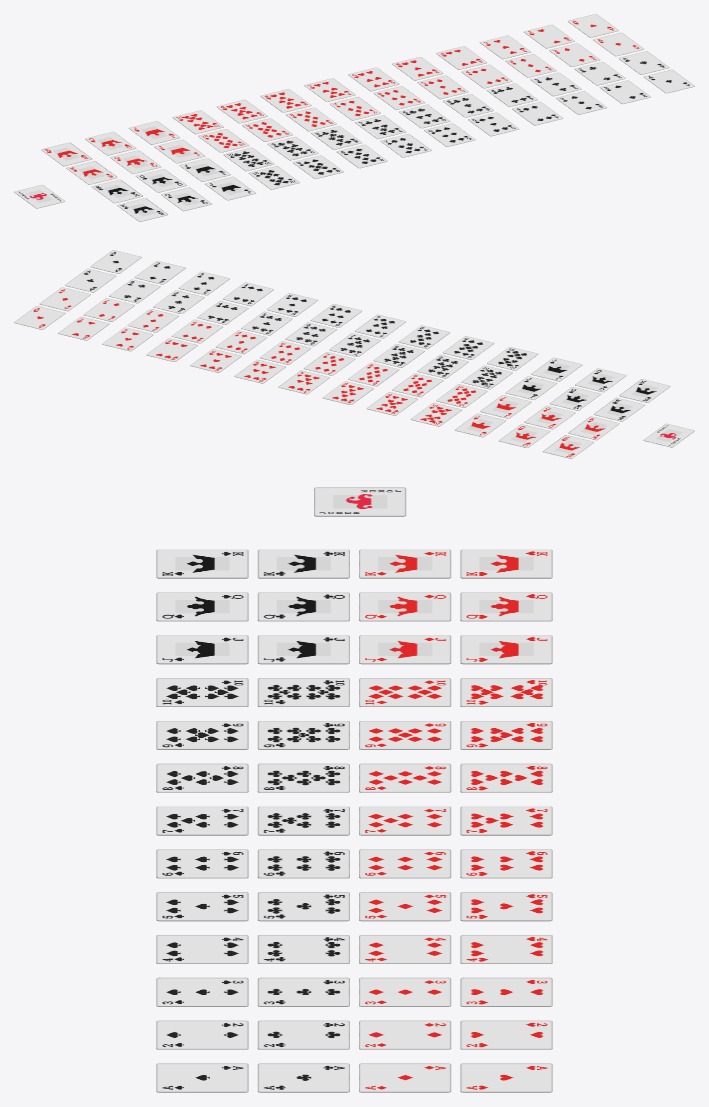
The model's file is BlueDeck.fbx.
3 renders of one model, top to bottom at view 1: azimuth 30°, elevation 25°; view 2: azimuth 150°, elevation 25°; view 3: azimuth 270°, elevation 25°, orthographic. The views are drawn at different scales.
Parts seen in each view (by area): view 1: ThreeDiamondsBlue, QueenHeartsBlue, SixHeartsBlue, JackClubsBlue, EightSpadesBlue, FiveSpadesBlue, TwoSpadesBlue, AceSpadesBlue, KingHeartsBlue, EightDiamondsBlue, SixDiamondsBlue, FiveDiamondsBlue (+41 smaller); view 2: QueenDiamondsBlue, EightDiamondsBlue, SevenHeartsBlue, SixHeartsBlue, FiveHeartsBlue, QueenClubsBlue, TenClubsBlue, QueenSpadesBlue, JackSpadesBlue, KingSpadesBlue, JackDiamondsBlue, TenDiamondsBlue (+41 smaller); view 3: SevenDiamondsBlue, TwoDiamondsBlue, AceDiamondsBlue, QueenHeartsBlue, SevenHeartsBlue, SixHeartsBlue, AceHeartsBlue, SevenClubsBlue, TwoClubsBlue, AceClubsBlue, QueenSpadesBlue, SevenSpadesBlue (+41 smaller).
Part boxes in pixels (x1=…): ThreeDiamondsBlue: x1=505, y1=54, x2=556, y2=77; QueenHeartsBlue: x1=85, y1=131, x2=136, y2=155; SixHeartsBlue: x1=348, y1=67, x2=399, y2=91; JackClubsBlue: x1=179, y1=158, x2=230, y2=181; EightSpadesBlue: x1=336, y1=144, x2=387, y2=168; FiveSpadesBlue: x1=468, y1=112, x2=519, y2=136; TwoSpadesBlue: x1=599, y1=80, x2=650, y2=104; AceSpadesBlue: x1=643, y1=69, x2=694, y2=93; KingHeartsBlue: x1=41, y1=142, x2=92, y2=166; EightDiamondsBlue: x1=285, y1=107, x2=336, y2=131; SixDiamondsBlue: x1=373, y1=86, x2=424, y2=109; FiveDiamondsBlue: x1=417, y1=75, x2=468, y2=99; QueenDiamondsBlue: x1=524, y1=405, x2=575, y2=429; EightDiamondsBlue: x1=348, y1=362, x2=399, y2=386; SevenHeartsBlue: x1=278, y1=370, x2=329, y2=394; SixHeartsBlue: x1=234, y1=359, x2=285, y2=383; FiveHeartsBlue: x1=190, y1=349, x2=241, y2=372; QueenClubsBlue: x1=549, y1=387, x2=601, y2=410; TenClubsBlue: x1=461, y1=365, x2=512, y2=389; QueenSpadesBlue: x1=575, y1=368, x2=626, y2=392; JackSpadesBlue: x1=531, y1=357, x2=582, y2=381; KingSpadesBlue: x1=619, y1=379, x2=670, y2=402; JackDiamondsBlue: x1=480, y1=395, x2=531, y2=418; TenDiamondsBlue: x1=436, y1=384, x2=487, y2=407; SevenDiamondsBlue: x1=359, y1=806, x2=451, y2=835; TwoDiamondsBlue: x1=359, y1=1020, x2=451, y2=1049; AceDiamondsBlue: x1=359, y1=1063, x2=451, y2=1092; QueenHeartsBlue: x1=460, y1=592, x2=552, y2=621; SevenHeartsBlue: x1=460, y1=806, x2=552, y2=835; SixHeartsBlue: x1=460, y1=849, x2=552, y2=878; AceHeartsBlue: x1=460, y1=1063, x2=552, y2=1092; SevenClubsBlue: x1=257, y1=806, x2=349, y2=835; TwoClubsBlue: x1=257, y1=1020, x2=349, y2=1049; AceClubsBlue: x1=257, y1=1063, x2=349, y2=1092; QueenSpadesBlue: x1=156, y1=592, x2=248, y2=621; SevenSpadesBlue: x1=156, y1=806, x2=248, y2=835.
Size of the model in its own units: 14.12 by 0.00481 by 3.91.
